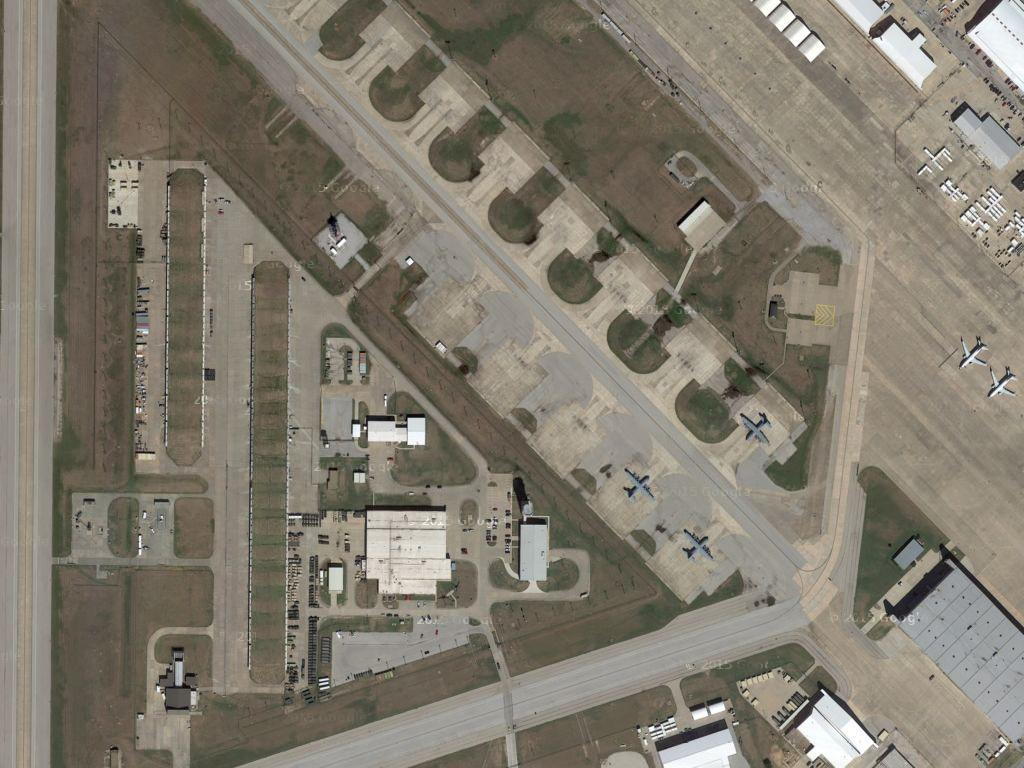C-130: (682, 527, 715, 565), (621, 466, 654, 501), (739, 413, 772, 447)
